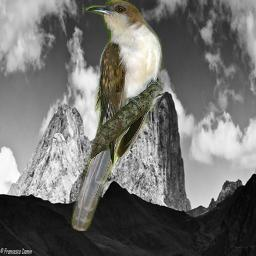Cuckoo: (71, 0, 164, 231)
